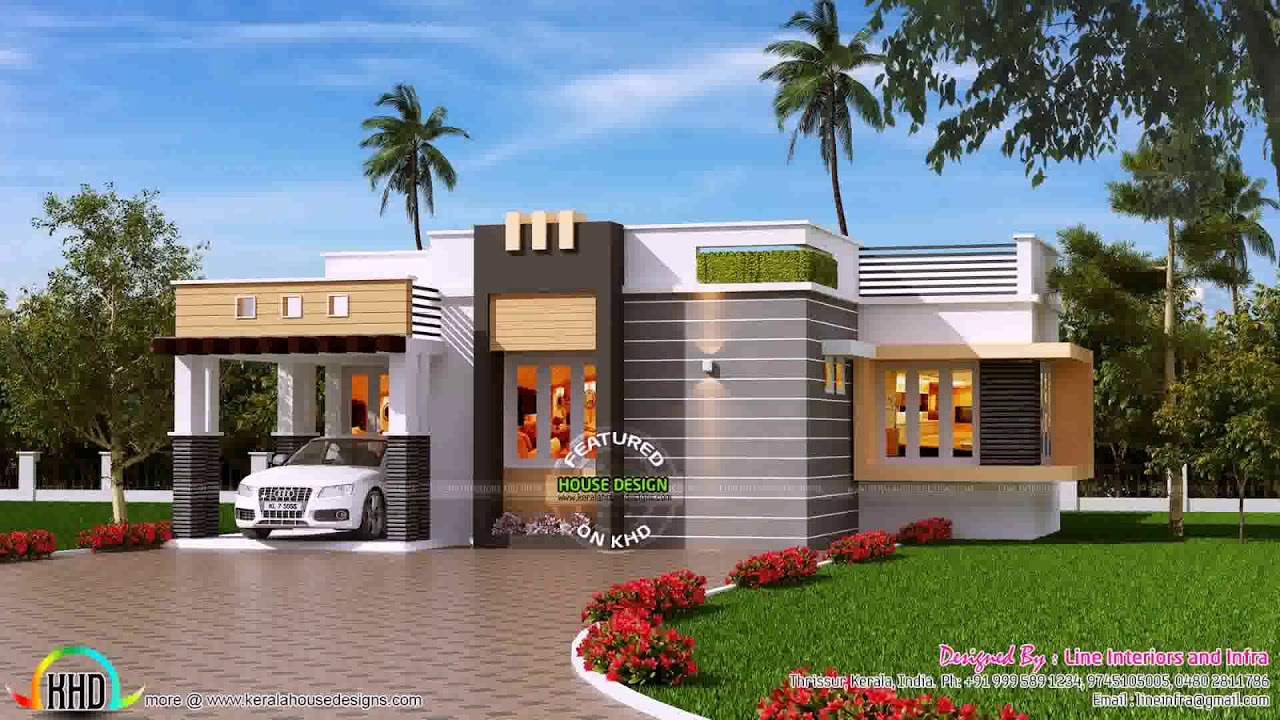Building House: (158, 223, 1106, 547)
